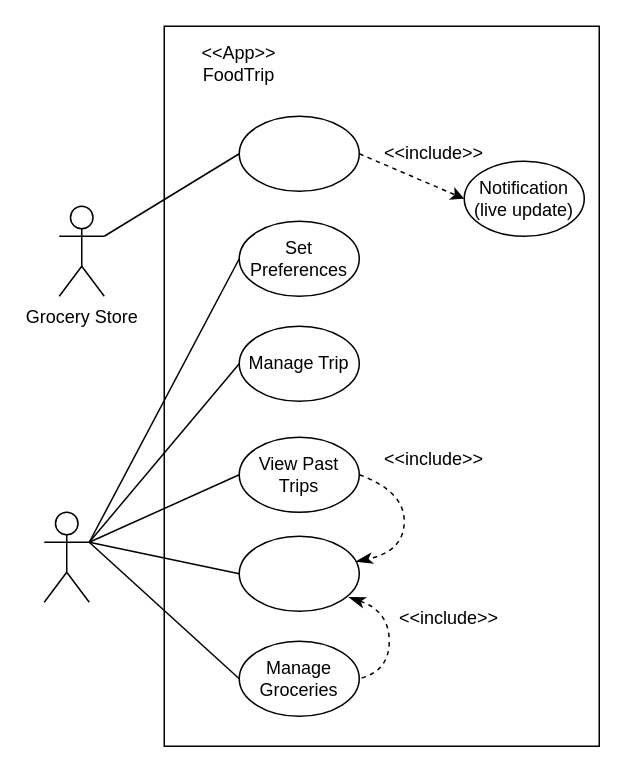
The diagram is 626 pixels wide and 773 high, and some of its shapes have lost their labels. Here are the shapes that lost their labels. From the top down, the centre of each, then its label:
At point 298,153: "Manage Discounts".
At point 66,556: "App User".
At point 298,573: "View Recipes".
